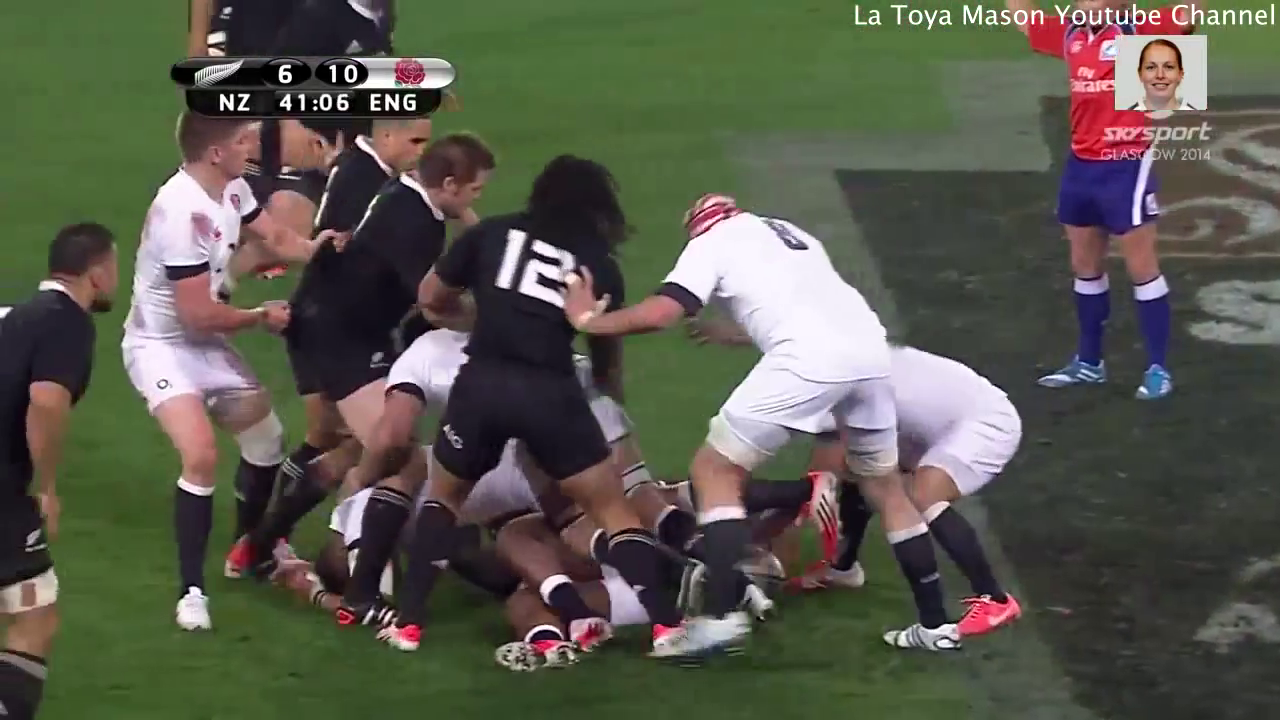player: (626, 180, 954, 660), (393, 152, 645, 643), (115, 115, 289, 640), (1, 217, 121, 720), (293, 127, 498, 394), (894, 330, 1024, 640), (1058, 112, 1181, 404)
ruck: (292, 350, 857, 645)
